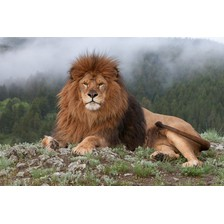lion: (42, 49, 211, 168)
